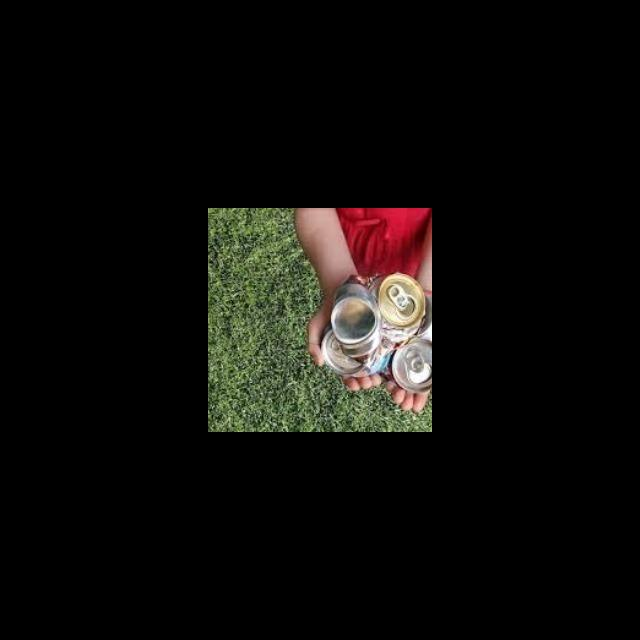metal: (327, 282, 381, 362), (373, 267, 424, 336), (388, 328, 432, 391)
